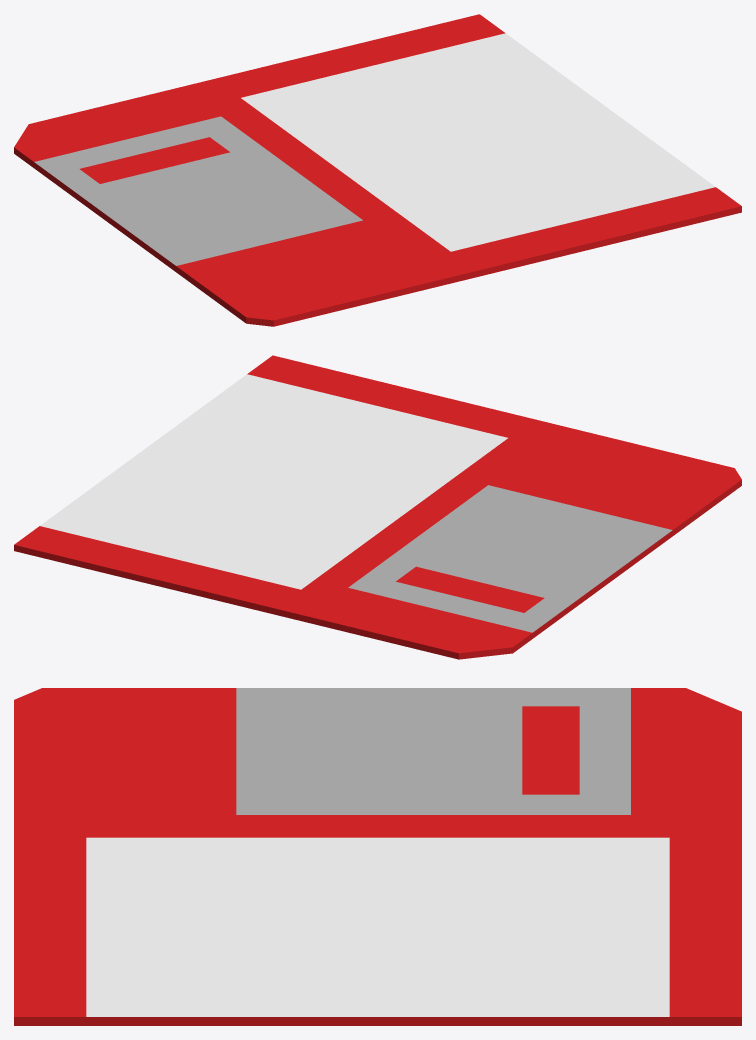
Rendered from Floppy.fbx.
3 views of the same model, one above another, from view 1: azimuth 30°, elevation 25°; view 2: azimuth 150°, elevation 25°; view 3: azimuth 270°, elevation 25° (orthographic). The views are drawn at different scales.
Visible parts, largest first — view 1: Floppy; view 2: Floppy; view 3: Floppy.
Boxes of the visible parts, x1,y1,x2,y2 form: Floppy: (14,14,741,326); Floppy: (14,355,741,659); Floppy: (14,688,741,1025).
Size of the model in its own units: 20 by 0.25 by 18.71.
